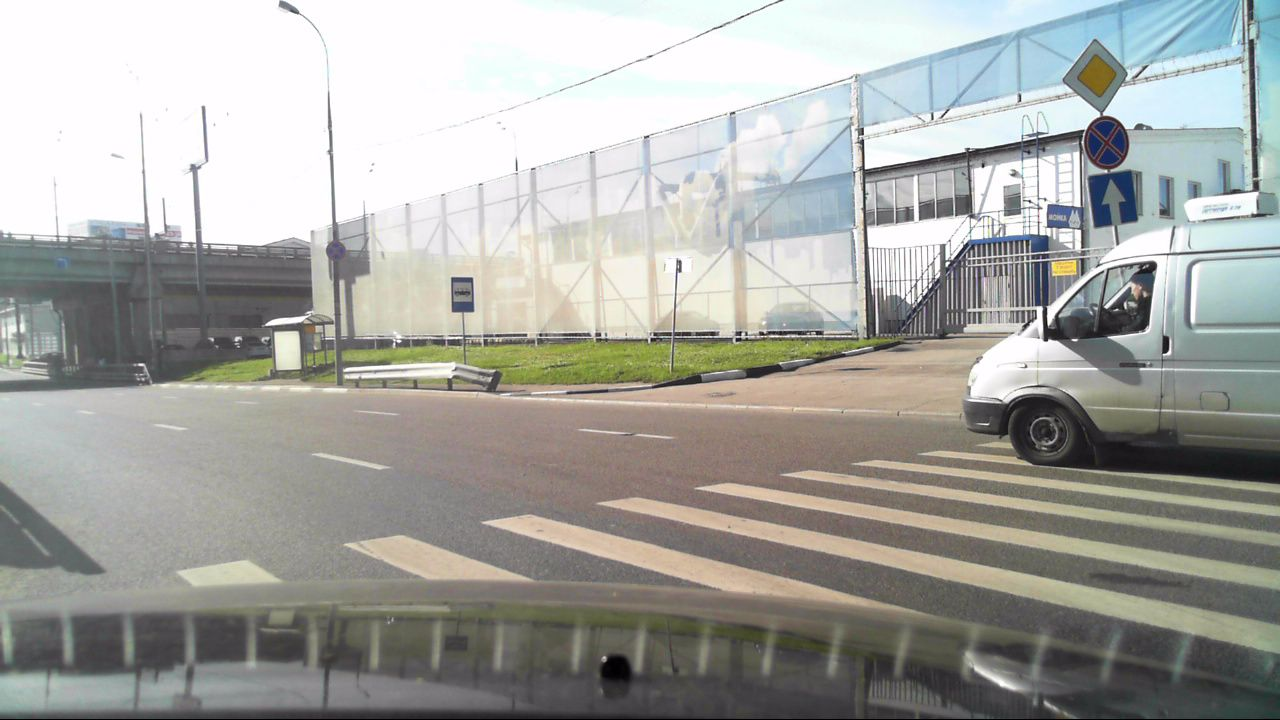No Parking: (1079, 111, 1133, 171)
